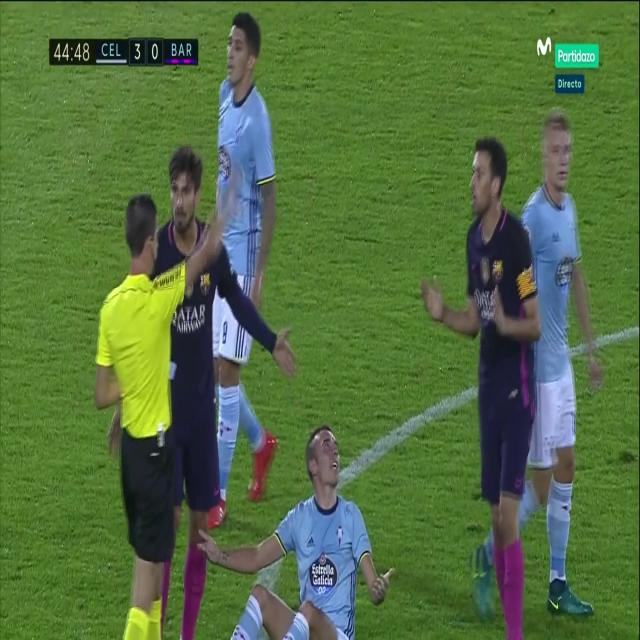Player: (155, 146, 302, 640), (421, 132, 542, 638), (197, 420, 396, 640), (517, 109, 603, 617), (213, 6, 280, 534)
Referee: (91, 186, 230, 640)
